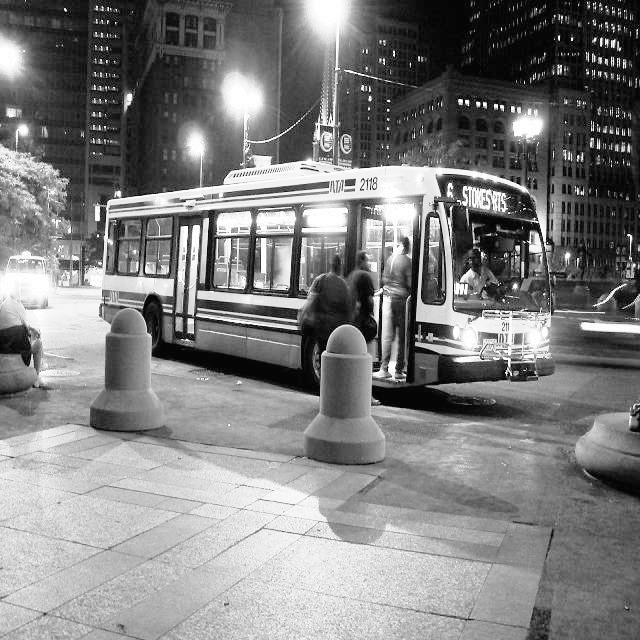Bus: (74, 162, 557, 395)
Car: (1, 248, 58, 308)
